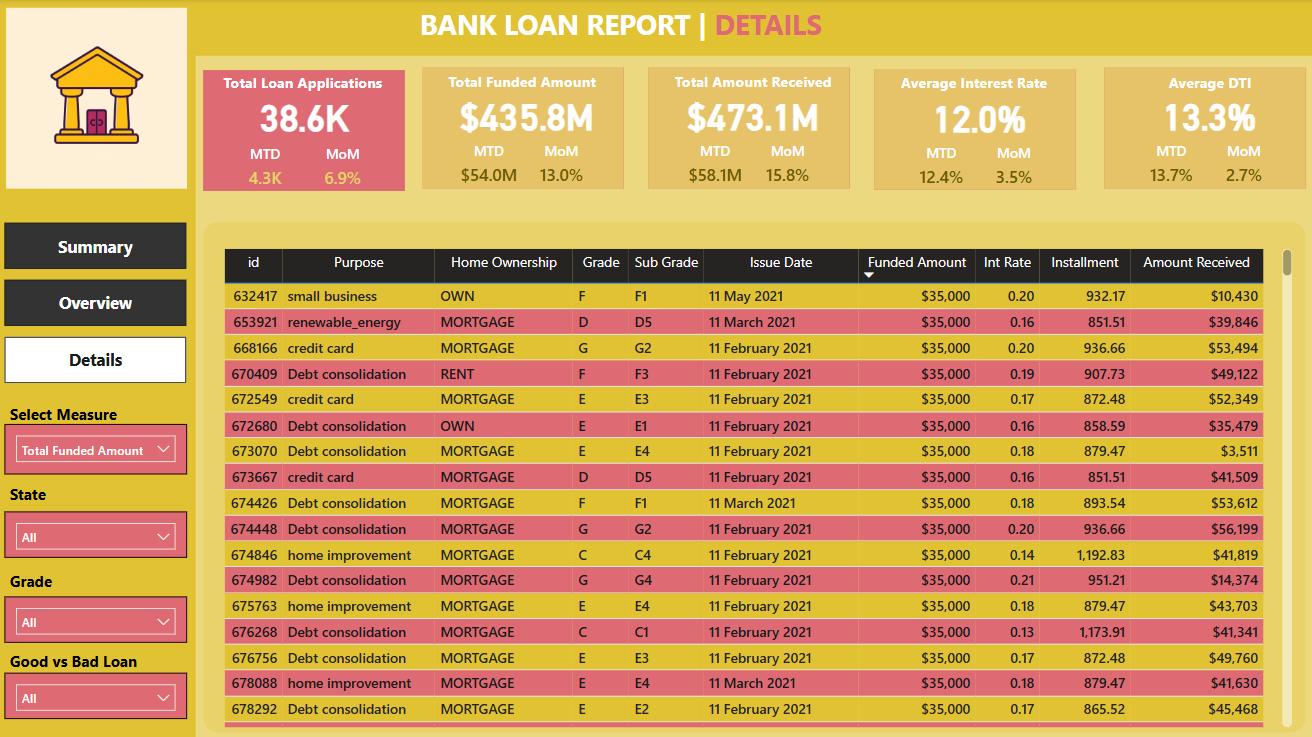

What the dashboard file says about the page in this screenshot:
{"tool":"powerbi","page":{"name":"Details","canvas":[1280,720],"ordinal":2},"visuals":[{"type":"shape","box":[0,0,1280.3,55],"z":0},{"type":"shape","box":[1072.5,66.6,195,117],"z":0,"group":"g5"},{"type":"shape","box":[411.6,66.7,195,117],"z":0,"group":"g2"},{"type":"shape","box":[630.7,66.7,195,117],"z":0,"group":"g3"},{"type":"shape","box":[849.8,67.9,195,117],"z":0,"group":"g4"},{"type":"shape","box":[199.7,69,195,117],"z":0,"group":"g1"},{"type":"shape","box":[0,54.5,192.5,665.8],"z":1000},{"type":"card","fields":{"Values":["bank_loan_data.Total Loan Applications"]},"box":[231.2,84.8,133.2,55.7],"z":1000,"group":"g1"},{"type":"card","fields":{"Values":["bank_loan_data.AVG DTI"]},"box":[1103.6,85.9,140.4,52.1],"z":1000,"group":"g5"},{"type":"card","fields":{"Values":["bank_loan_data.Total Funded Amount"]},"box":[442.7,86,140.4,52.1],"z":1000,"group":"g2"},{"type":"card","fields":{"Values":["bank_loan_data.Total Amount Received"]},"box":[661.8,86,140.4,52.1],"z":1000,"group":"g3"},{"type":"card","fields":{"Values":["bank_loan_data.Average Interest Rate"]},"box":[880.9,87.2,140.4,52.1],"z":1000,"group":"g4"},{"type":"textbox","box":[431.8,65.4,180.4,35.1],"z":2000,"group":"g2"},{"type":"textbox","box":[650.9,65.4,180.4,35.1],"z":2000,"group":"g3"},{"type":"textbox","box":[214.2,66.6,180.4,35.1],"z":2000,"group":"g1"},{"type":"textbox","box":[870,66.6,180.4,35.1],"z":2000,"group":"g4"},{"type":"textbox","box":[1120.3,67.1,110.2,30.3],"z":2000,"group":"g5"},{"type":"shape","box":[199.7,215.5,1067.7,495.1],"z":2000},{"type":"textbox","box":[404.3,1.2,472.1,53.3],"z":3000},{"type":"card","title":"MTD","fields":{"Values":["bank_loan_data.MTD Funded Amount"]},"box":[442.7,138,66.6,52.1],"z":3000,"group":"g2"},{"type":"card","title":"MTD","fields":{"Values":["bank_loan_data.MTD Amount Received"]},"box":[661.8,138,66.6,52.1],"z":3000,"group":"g3"},{"type":"card","title":"MTD","fields":{"Values":["bank_loan_data.MTD Avg DTI"]},"box":[1103.6,138,66.6,52.1],"z":3000,"group":"g5"},{"type":"card","title":"MTD","fields":{"Values":["bank_loan_data.MTD Avg Interest Rate"]},"box":[880.9,139.2,66.6,52.1],"z":3000,"group":"g4"},{"type":"card","title":"MTD","fields":{"Values":["bank_loan_data.MTD Loan Applications"]},"box":[230.6,140.4,56.9,52.1],"z":3000,"group":"g1"},{"type":"group","id":"g1","title":"Group 1","box":[199.7,66.6,194.9,125.9],"z":4000},{"type":"card","title":"MoM","fields":{"Values":["bank_loan_data.MoM Funded Amount"]},"box":[516.3,138,59.3,52.1],"z":4000,"group":"g2"},{"type":"card","title":"MoM","fields":{"Values":["bank_loan_data.MoM Total Amount Received"]},"box":[735.4,138,59.3,52.1],"z":4000,"group":"g3"},{"type":"card","title":"MoM","fields":{"Values":["bank_loan_data.MoM Avg DTI"]},"box":[1177.2,138,59.3,52.1],"z":4000,"group":"g5"},{"type":"card","title":"MoM","fields":{"Values":["bank_loan_data.MoM Avg Interest Rate"]},"box":[954.5,139.2,59.3,52.1],"z":4000,"group":"g4"},{"type":"card","title":"MoM","fields":{"Values":["bank_loan_data.MoM Loan Applications"]},"box":[304.4,140.4,59.3,52.1],"z":4000,"group":"g1"},{"type":"group","id":"g2","title":"Group 1","box":[411.6,65.4,200.9,124.7],"z":5000},{"type":"group","id":"g3","title":"Group 1","box":[630.7,65.4,200.9,124.7],"z":6000},{"type":"group","id":"g4","title":"Group 1","box":[849.8,66.6,200.9,124.7],"z":7000},{"type":"group","id":"g5","title":"Group 1","box":[1072.5,66.6,194.9,123.5],"z":8000},{"type":"tableEx","fields":{"Values":["bank_loan_data.id","bank_loan_data.purpose","bank_loan_data.home_ownership","bank_loan_data.grade","bank_loan_data.sub_grade","bank_loan_data.issue_date","bank_loan_data.Total Funded Amount","Sum(bank_loan_data.int_rate)","Sum(bank_loan_data.installment)","bank_loan_data.Total Amount Received"]},"box":[214.3,237.3,1044.7,473.3],"z":9000},{"type":"slicer","fields":{"Values":["bank_loan_data.Good vs Bad Loan"]},"box":[7.3,652.5,176.7,44.8],"z":10000},{"type":"textbox","box":[7.3,625.8,159.8,37.5],"z":11000},{"type":"slicer","fields":{"Values":["bank_loan_data.address_state"]},"box":[7.3,496.3,176.7,44.8],"z":12000},{"type":"textbox","box":[7.3,464.8,53.3,41.2],"z":13000},{"type":"slicer","fields":{"Values":["bank_loan_data.grade"]},"box":[7.3,578.6,176.7,44.8],"z":14000},{"type":"textbox","box":[7.3,548.4,79.9,42.4],"z":15000},{"type":"slicer","fields":{"Values":["Select Measure.Select Measure"]},"box":[7.3,411.6,176.7,48.4],"z":16000},{"type":"textbox","box":[7.3,387.4,142.8,37.5],"z":17000},{"type":"pageNavigator","box":[7.3,216.7,176.7,157.4],"z":18000},{"type":"image","box":[0,8.5,192.5,175.5],"z":19000}]}

Visuals, with their boxes in screenshot pixels (x1, y1, x2, y2), scaled from the page's 1280x720 canvas onto the 1312x737 screenshot:
shape: 0,0,1311,56
shape: 1099,68,1299,188
shape: 422,68,622,188
shape: 646,68,846,188
shape: 871,70,1071,189
shape: 205,71,405,190
shape: 0,56,197,736
card - bank_loan_data.Total Loan Applications: 237,87,374,144
card - bank_loan_data.AVG DTI: 1131,88,1275,141
card - bank_loan_data.Total Funded Amount: 454,88,598,141
card - bank_loan_data.Total Amount Received: 678,88,822,141
card - bank_loan_data.Average Interest Rate: 903,89,1047,143
textbox: 443,67,628,103
textbox: 667,67,852,103
textbox: 220,68,404,104
textbox: 892,68,1077,104
textbox: 1148,69,1261,100
shape: 205,221,1299,727
textbox: 414,1,898,56
"MTD" card: 454,141,522,195
"MTD" card: 678,141,747,195
"MTD" card: 1131,141,1199,195
"MTD" card: 903,142,971,196
"MTD" card: 236,144,295,197
"Group 1" group: 205,68,404,197
"MoM" card: 529,141,590,195
"MoM" card: 754,141,815,195
"MoM" card: 1207,141,1267,195
"MoM" card: 978,142,1039,196
"MoM" card: 312,144,373,197
"Group 1" group: 422,67,628,195
"Group 1" group: 646,67,852,195
"Group 1" group: 871,68,1077,196
"Group 1" group: 1099,68,1299,195
tableEx - bank_loan_data.id x bank_loan_data.purpose: 220,243,1290,727
slicer - bank_loan_data.Good vs Bad Loan: 7,668,189,714
textbox: 7,641,171,679
slicer - bank_loan_data.address_state: 7,508,189,554
textbox: 7,476,62,518
slicer - bank_loan_data.grade: 7,592,189,638
textbox: 7,561,89,605
slicer - Select Measure.Select Measure: 7,421,189,471
textbox: 7,397,154,435
pageNavigator: 7,222,189,383
image: 0,9,197,188
